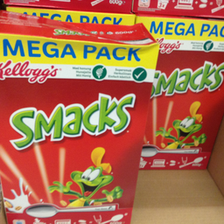cereal: (1, 13, 160, 224)
